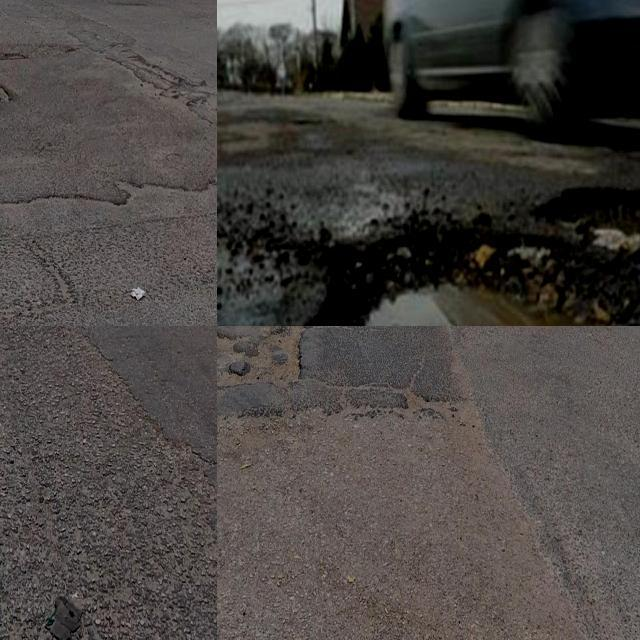Pothole: (306, 229, 640, 326), (541, 187, 640, 260), (230, 326, 311, 389)
